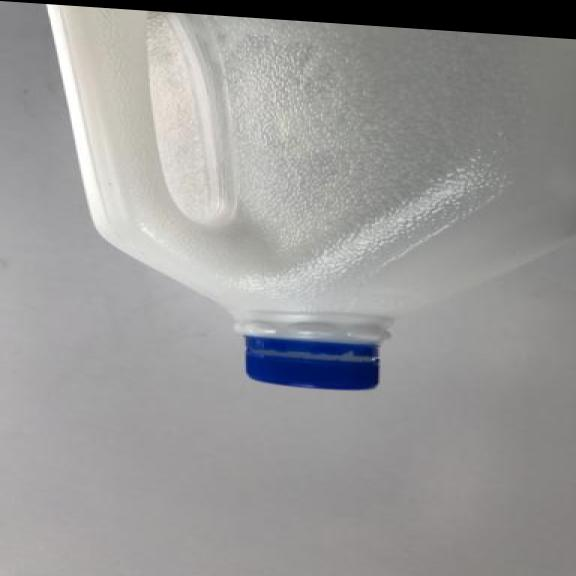Plastik: (44, 3, 576, 407)
